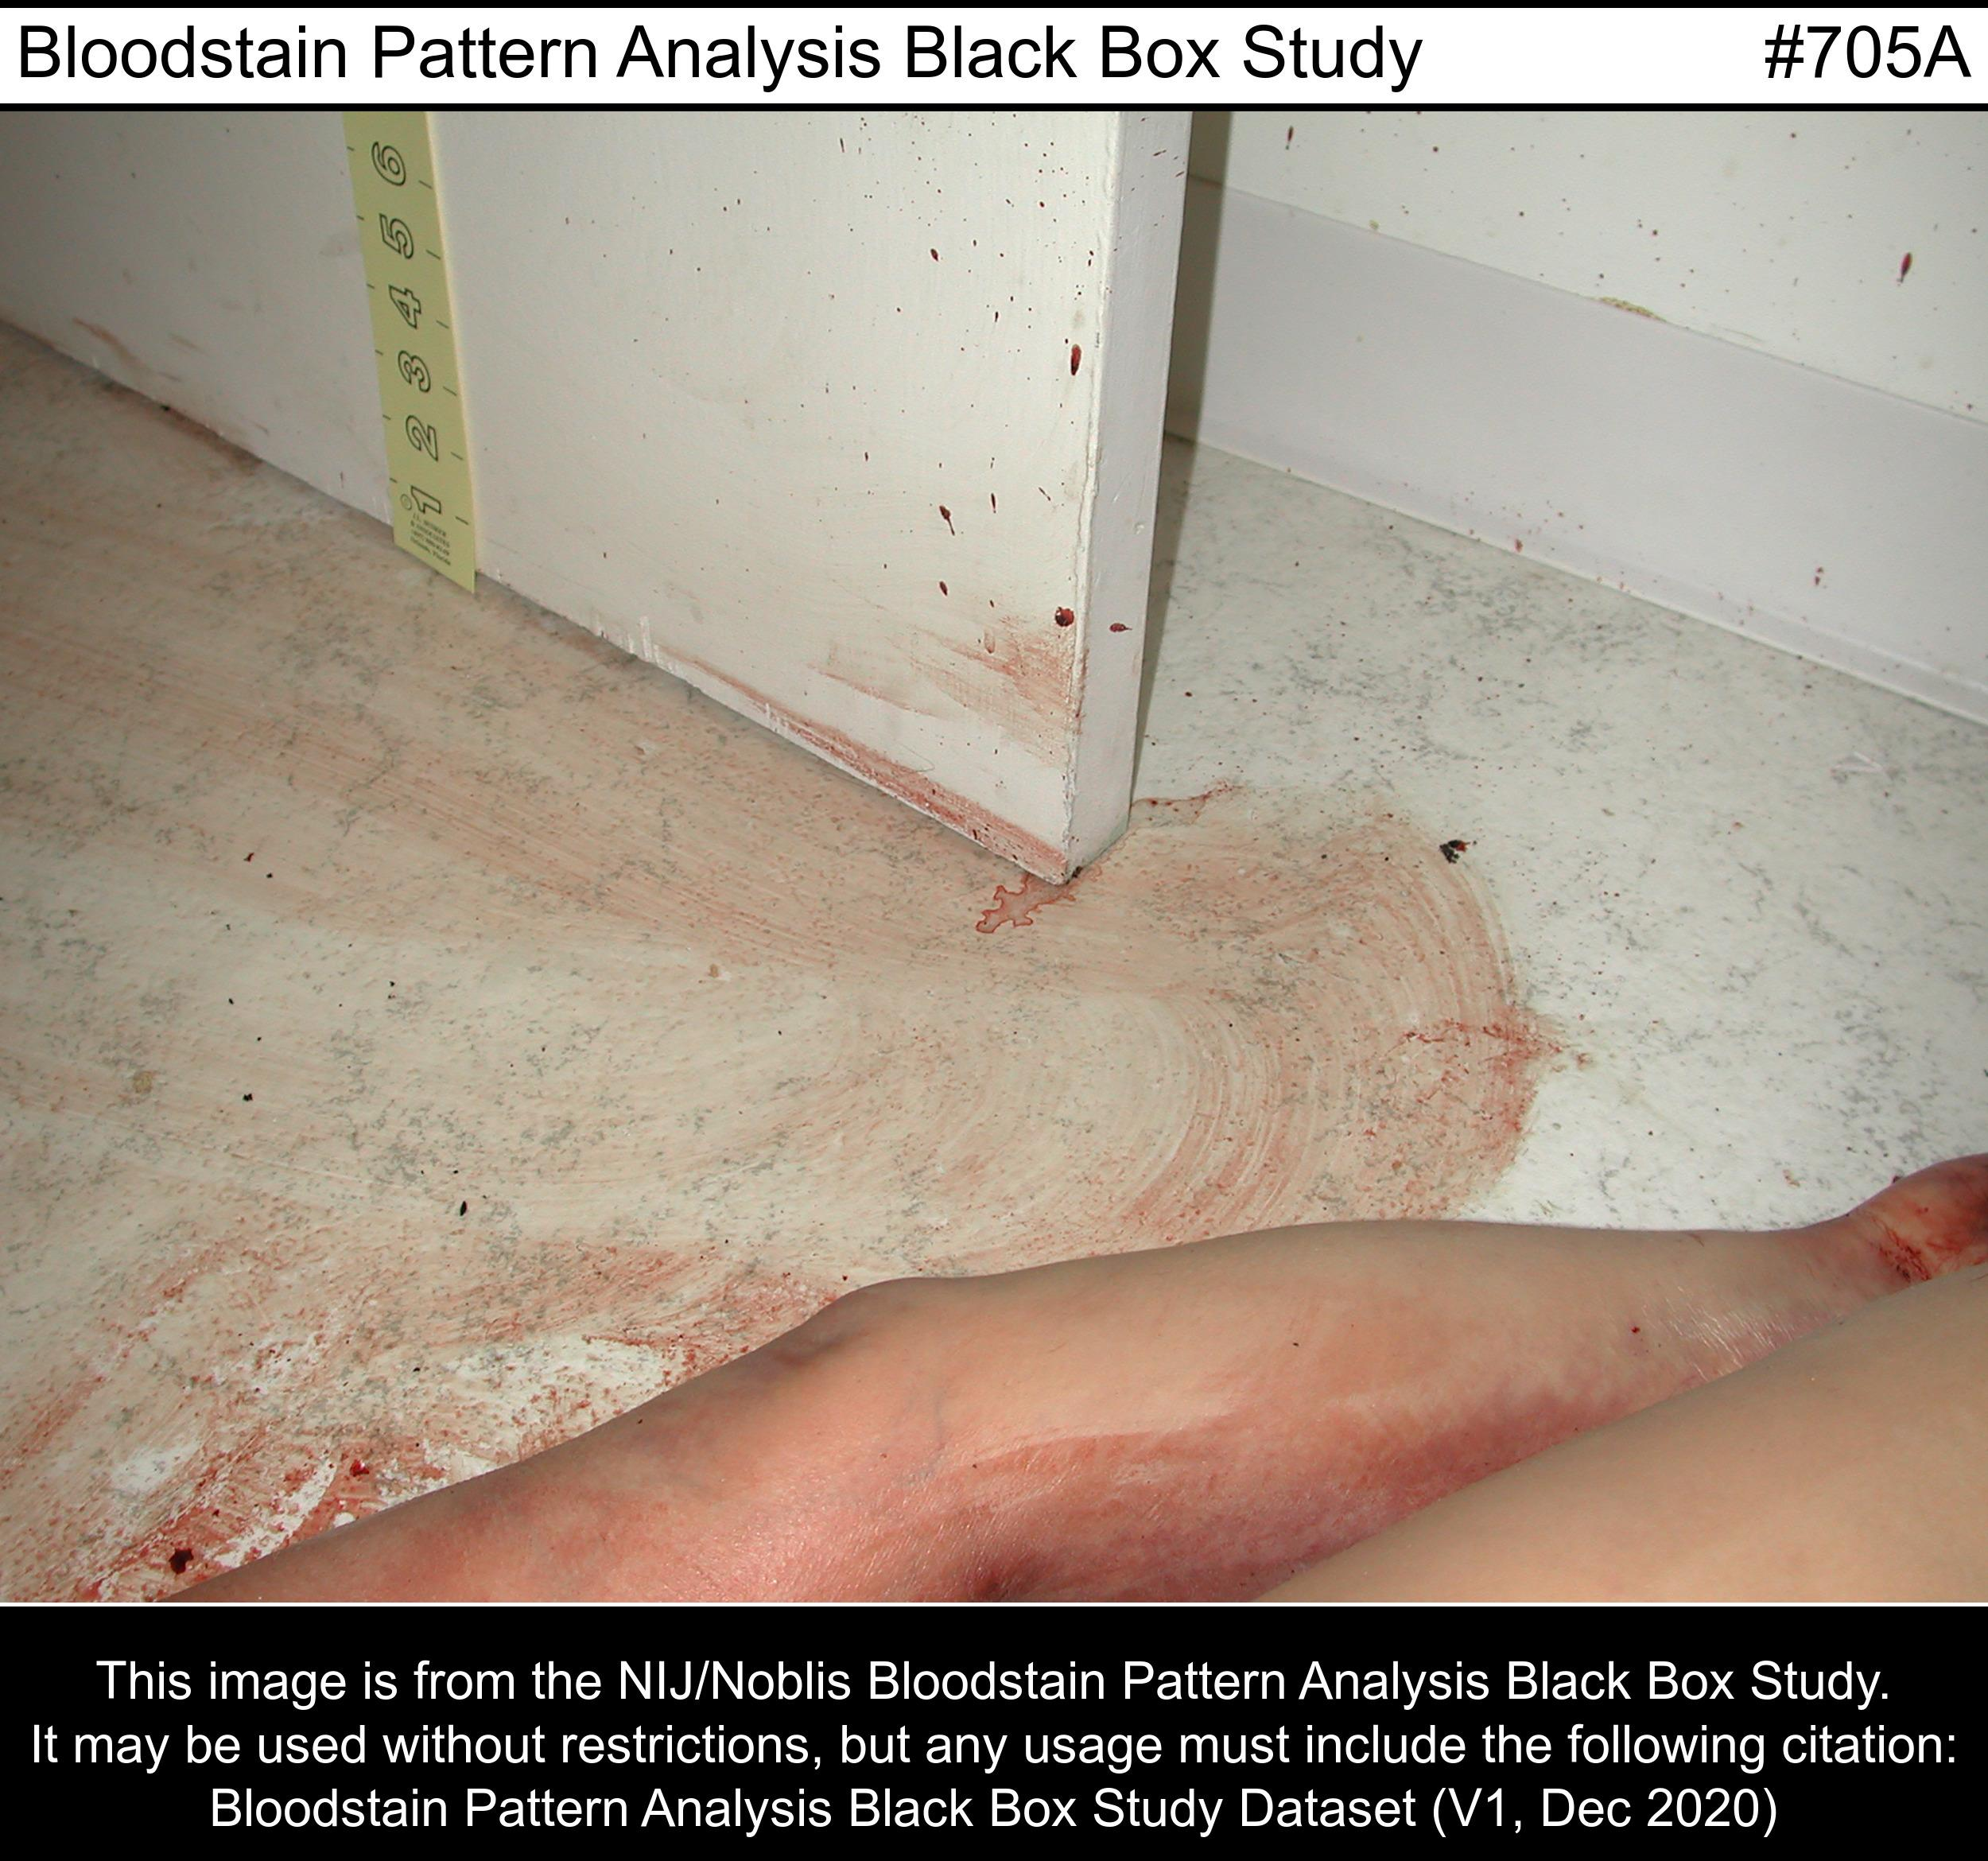Impact: (886, 135, 1133, 736)
Transfer: (138, 710, 818, 1298), (953, 1408, 1556, 1583)
